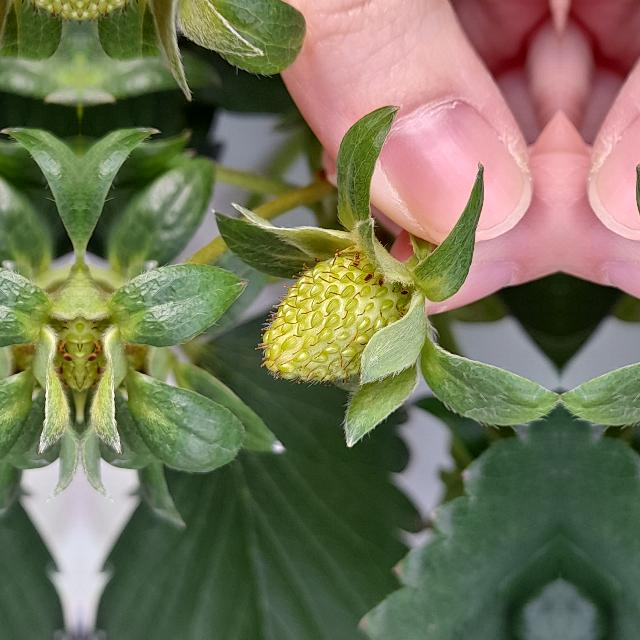Health_25: (254, 248, 410, 386)
